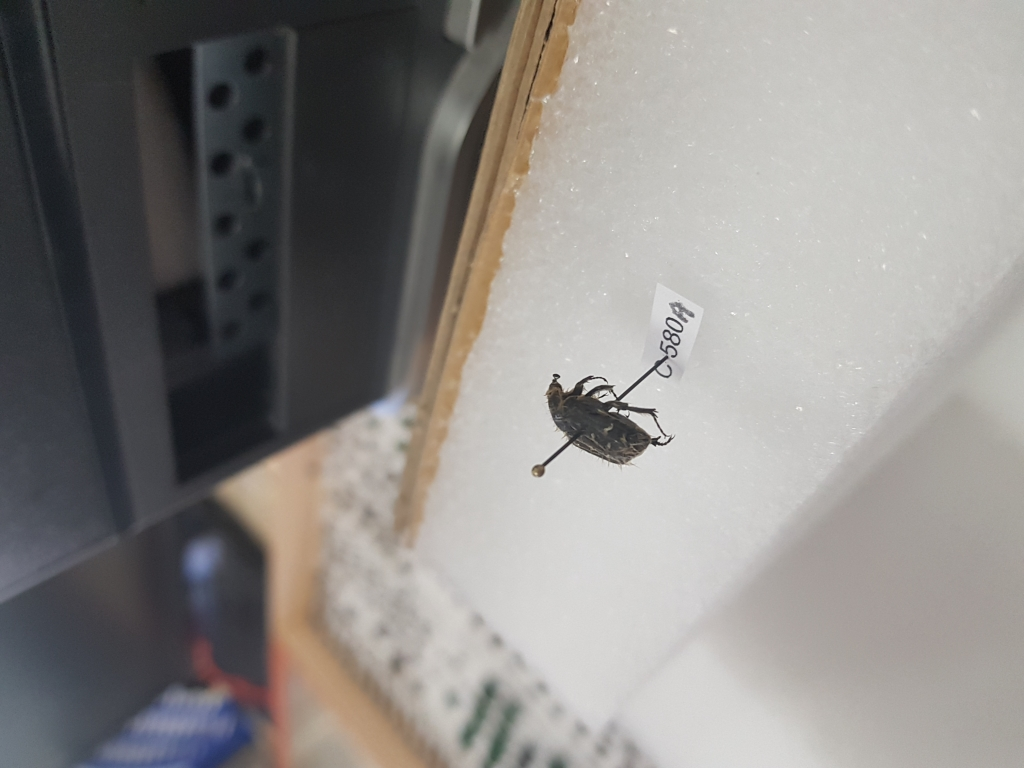Tropinota_hirta: (540, 365, 674, 465)
